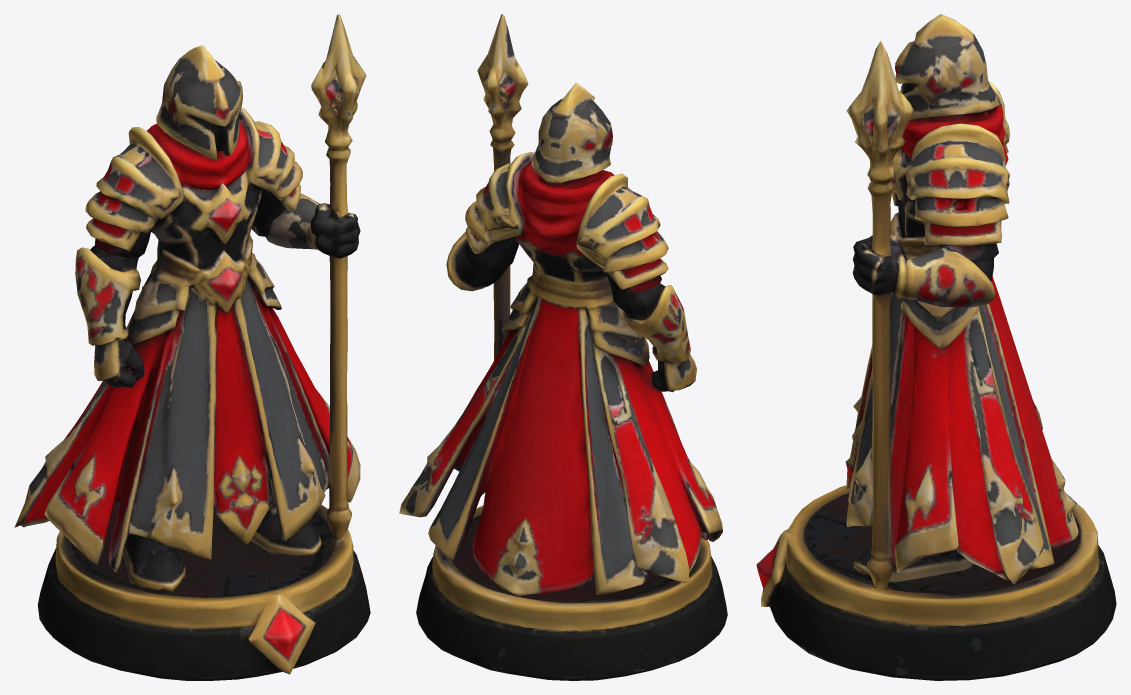
File: pawn.glb
The picture shows the model from 3 angles, left to right: view 1: azimuth 30°, elevation 25°; view 2: azimuth 150°, elevation 25°; view 3: azimuth 270°, elevation 25°; orthographic projection. The views are drawn at different scales.
Visible parts, largest first — view 1: Peao_Vermelho; view 2: Peao_Vermelho; view 3: Peao_Vermelho.
Part boxes in pixels (x1,y1,x2,y2): Peao_Vermelho: (14,14,370,680); Peao_Vermelho: (399,14,727,680); Peao_Vermelho: (756,14,1116,680).
Size of the model in its own units: 0.5418 by 0.9977 by 0.5237.
1 material, 1 textured.
